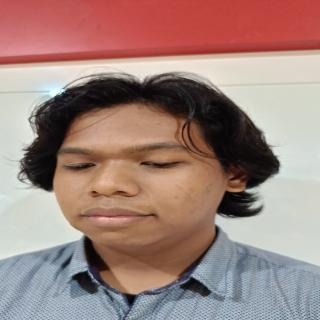Sedih: (50, 96, 230, 257)
